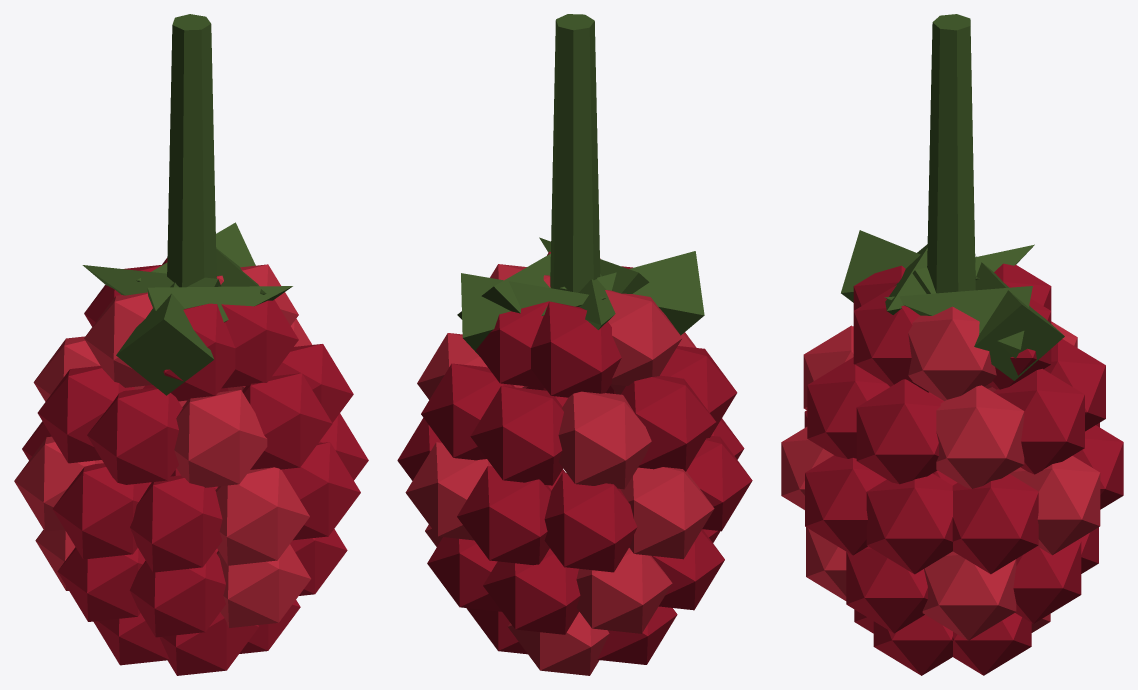
The model's file is raspberry_cluster.glb.
The picture shows the model from 3 angles, left to right: view 1: azimuth 30°, elevation 25°; view 2: azimuth 150°, elevation 25°; view 3: azimuth 270°, elevation 25°; orthographic projection.
Parts seen in each view (by area): view 1: Rubus_idaeus_ripe_fruit; view 2: Rubus_idaeus_ripe_fruit; view 3: Rubus_idaeus_ripe_fruit.
Part boxes in pixels (left/top/right/bottom): Rubus_idaeus_ripe_fruit: left=14, top=14, right=368, bottom=675; Rubus_idaeus_ripe_fruit: left=397, top=14, right=752, bottom=675; Rubus_idaeus_ripe_fruit: left=781, top=14, right=1123, bottom=675.
Bounding box in the file's own units: 0.0282 × 0.0586 × 0.0292.
